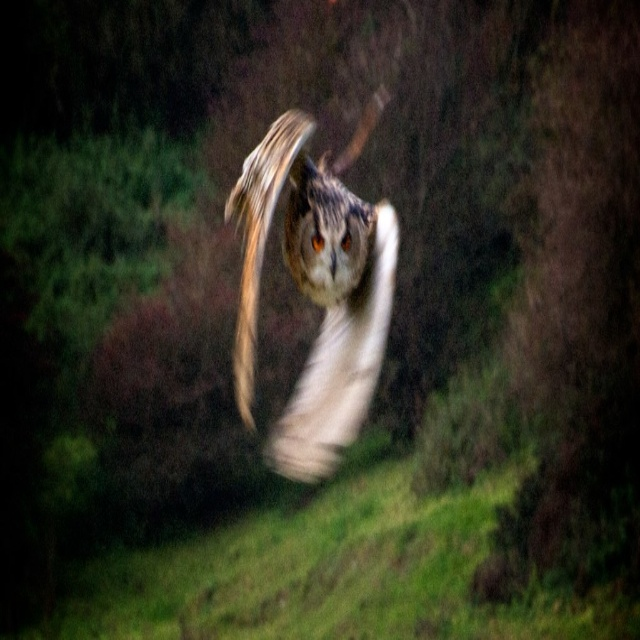Owl: (223, 106, 401, 494)
